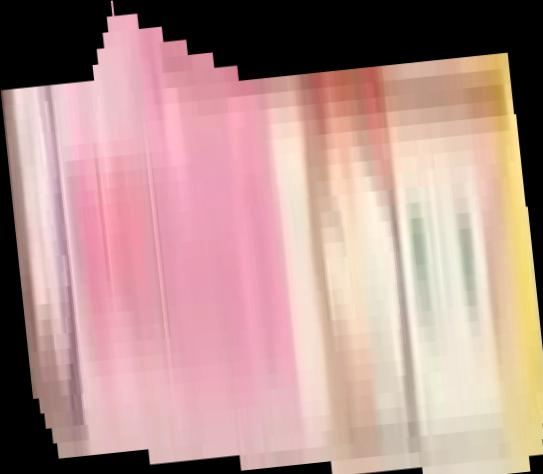flat: (1, 1, 543, 474)
